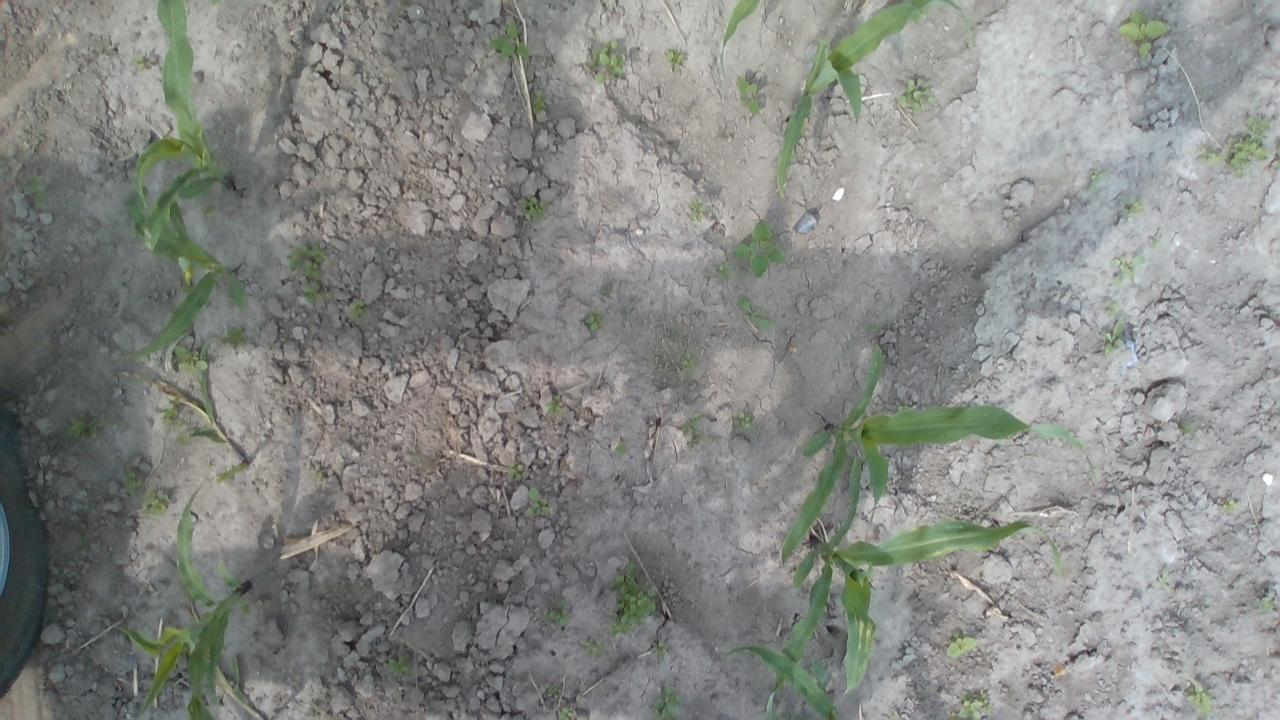Maize: (766, 459, 1066, 720), (782, 346, 1096, 561), (776, 0, 975, 194), (113, 481, 252, 720), (138, 0, 236, 239), (123, 188, 250, 360), (156, 349, 254, 486), (732, 648, 837, 717), (717, 0, 763, 78)
Weeds: (609, 564, 658, 637), (730, 219, 786, 279), (1118, 11, 1170, 56), (1222, 132, 1270, 178), (586, 38, 626, 84), (488, 20, 532, 56), (895, 75, 935, 111), (286, 246, 328, 279), (736, 298, 774, 330), (1112, 253, 1144, 288), (651, 685, 683, 719), (736, 75, 762, 116), (172, 344, 208, 372), (956, 690, 990, 718), (1187, 682, 1215, 714), (1102, 318, 1125, 356), (66, 411, 96, 440), (526, 487, 554, 518), (544, 600, 570, 628), (518, 194, 548, 218), (949, 635, 980, 658), (143, 489, 169, 514), (300, 283, 332, 303), (122, 467, 146, 492), (1244, 114, 1271, 136), (220, 326, 246, 348), (682, 411, 704, 437), (687, 198, 710, 222), (154, 403, 180, 424), (1196, 145, 1222, 166), (1122, 196, 1146, 218), (1252, 592, 1276, 614), (172, 420, 192, 446), (26, 178, 44, 206), (664, 50, 686, 72), (584, 308, 604, 332), (1088, 169, 1108, 192), (1220, 497, 1244, 516), (862, 321, 887, 338), (388, 655, 408, 676), (1154, 568, 1172, 591), (687, 435, 718, 448), (733, 412, 753, 432), (582, 638, 604, 656), (546, 396, 564, 417), (532, 94, 548, 116), (130, 54, 152, 70), (650, 642, 671, 658), (682, 352, 698, 372), (200, 203, 218, 220), (716, 262, 732, 281), (351, 300, 366, 320), (510, 464, 526, 482), (1182, 421, 1200, 436), (1104, 300, 1120, 316), (716, 125, 731, 142), (558, 706, 576, 720), (312, 470, 328, 485), (545, 683, 561, 698), (238, 600, 253, 616), (616, 441, 630, 456), (1148, 235, 1164, 248), (1272, 146, 1280, 170)
